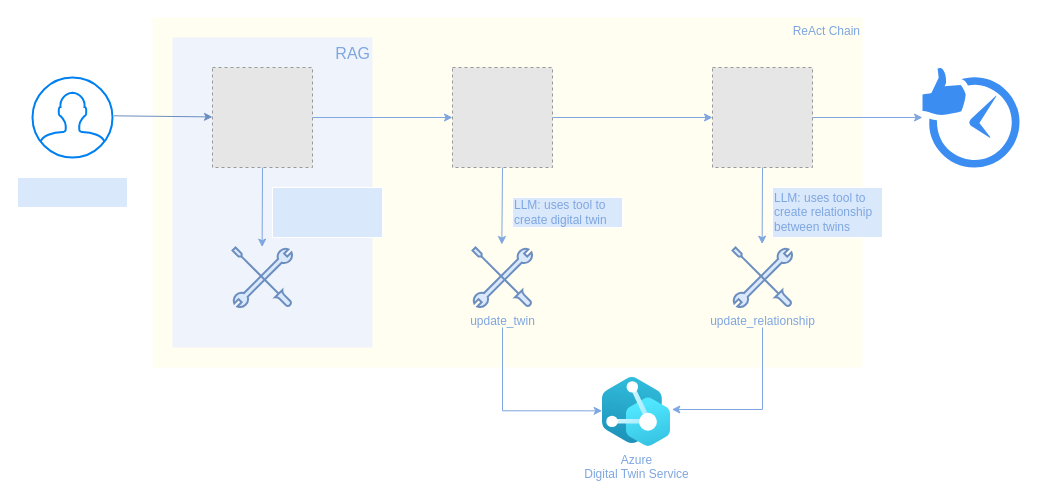
Image size: 1037x499. Some labels were removed from this diagram. Grey dashed boxes stand in for pictures. Each missing label, with the centre of its shape:
"get_module_definition" goes at point (262, 277).
"LLM: gets module definition to create twin" goes at point (327, 212).
"User describes topolgy to create" goes at point (72, 192).
